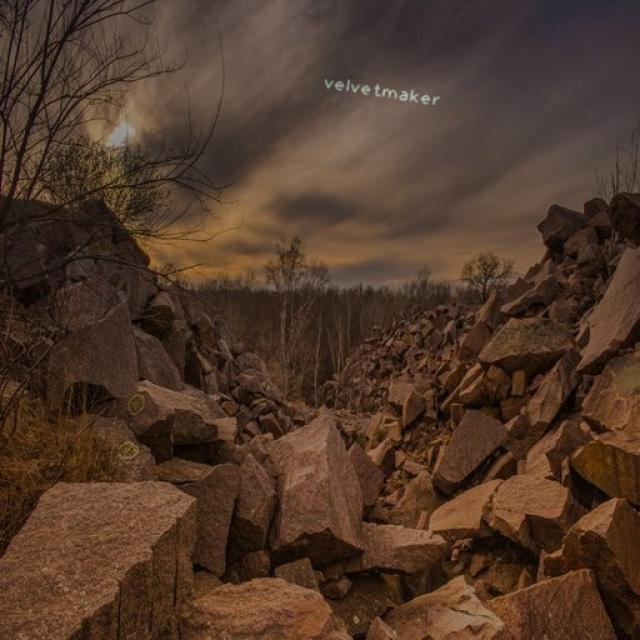watermark: (318, 74, 452, 109)
